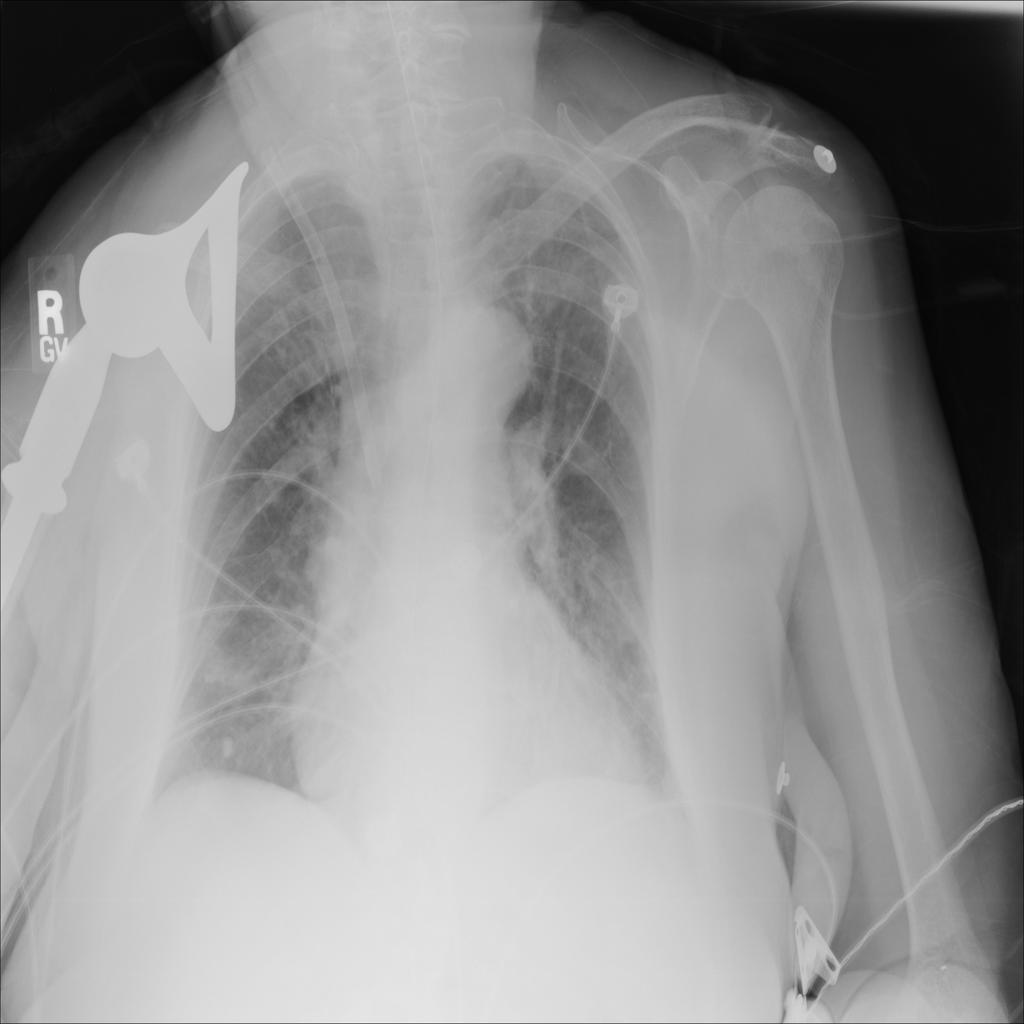nodule: (209, 726, 244, 767)
